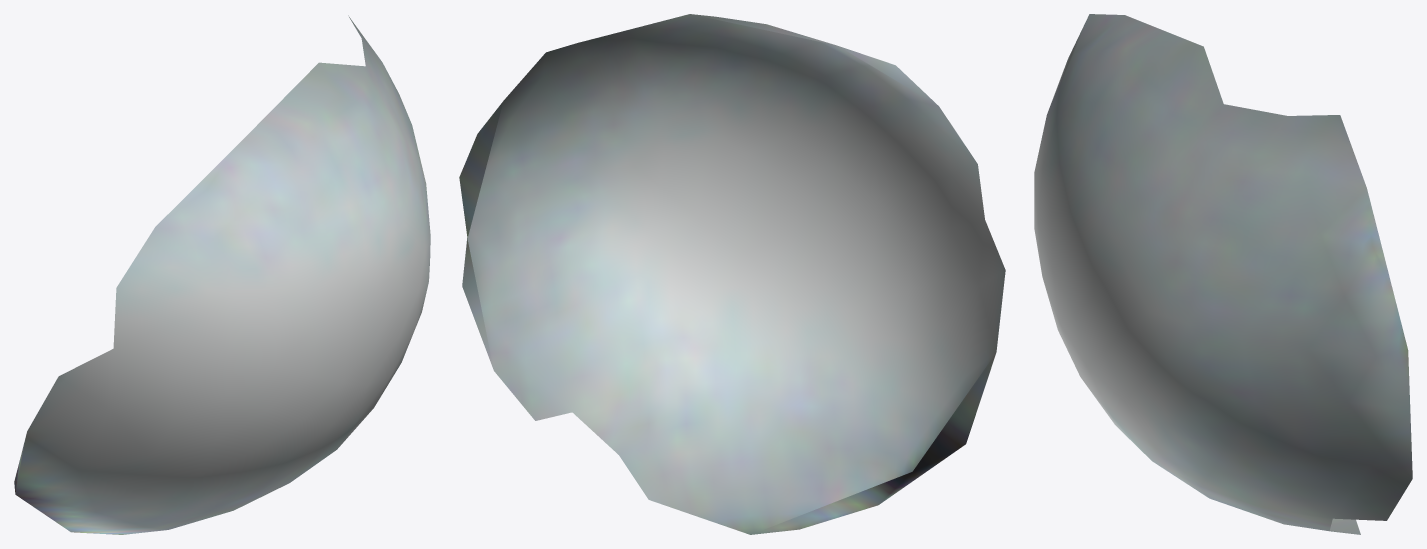
File: Test_20_4.000001_singlesphere_small.obj
3 renders of one model, left to right at view 1: azimuth 30°, elevation 25°; view 2: azimuth 150°, elevation 25°; view 3: azimuth 270°, elevation 25°, orthographic. The views are drawn at different scales.
Size of the model in its own units: 33.21 by 32.16 by 20.99.
1 material, 1 textured.
